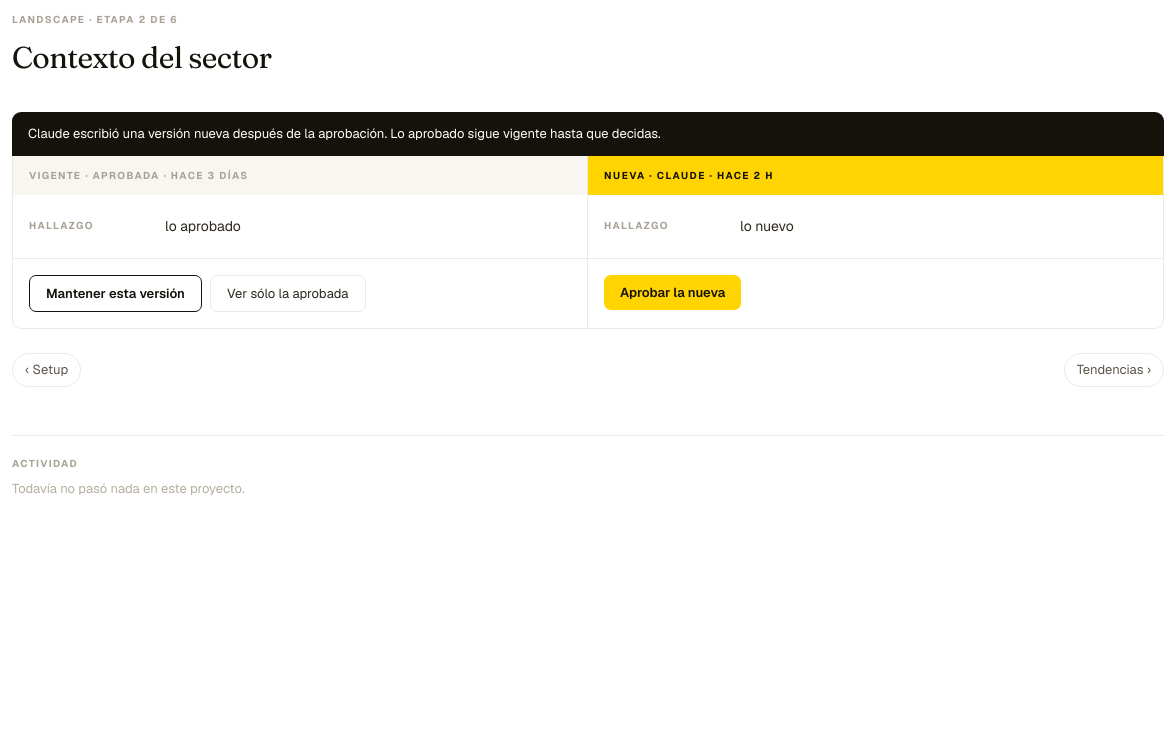
Test: LandscapeWorkspace · borrador nuevo sobre etapa aprobada › si mantener falla, lo dice y no se come el error
Click the button "Mantener esta versión". click: (115, 293)
box: x1=29 y1=275 x2=202 y2=312
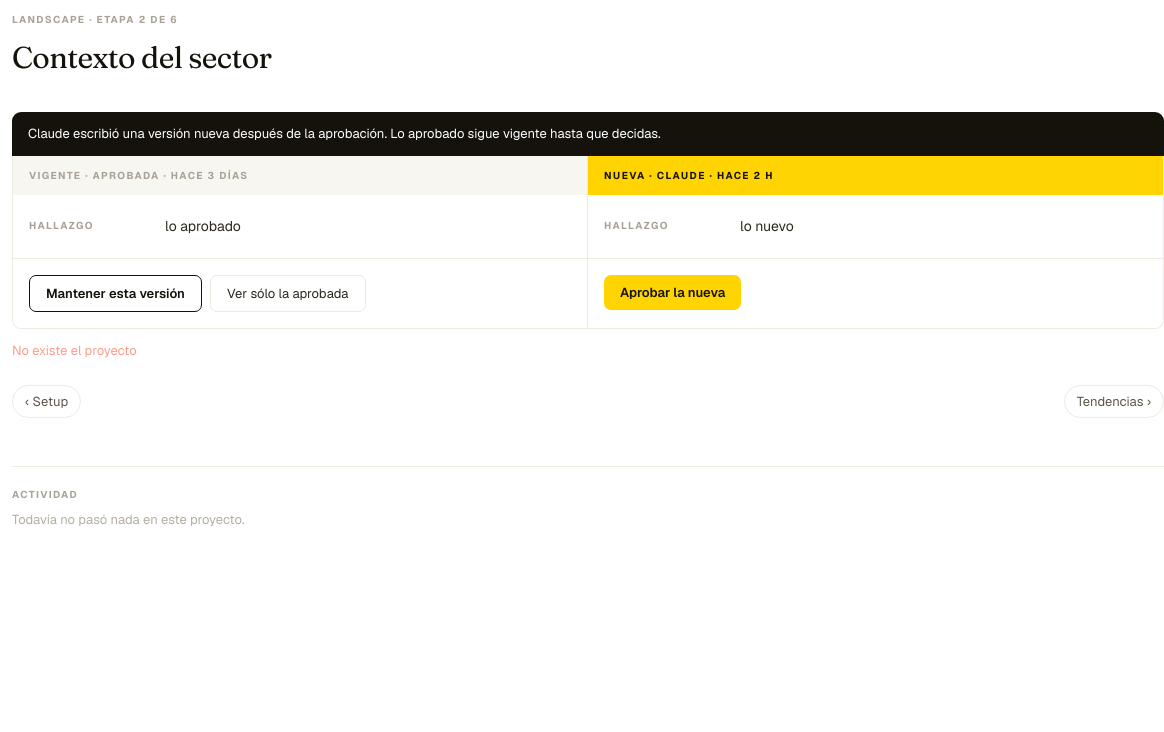
Check: the text "No existe el proyecto" is shown, box x1=12 y1=342 x2=137 y2=359
